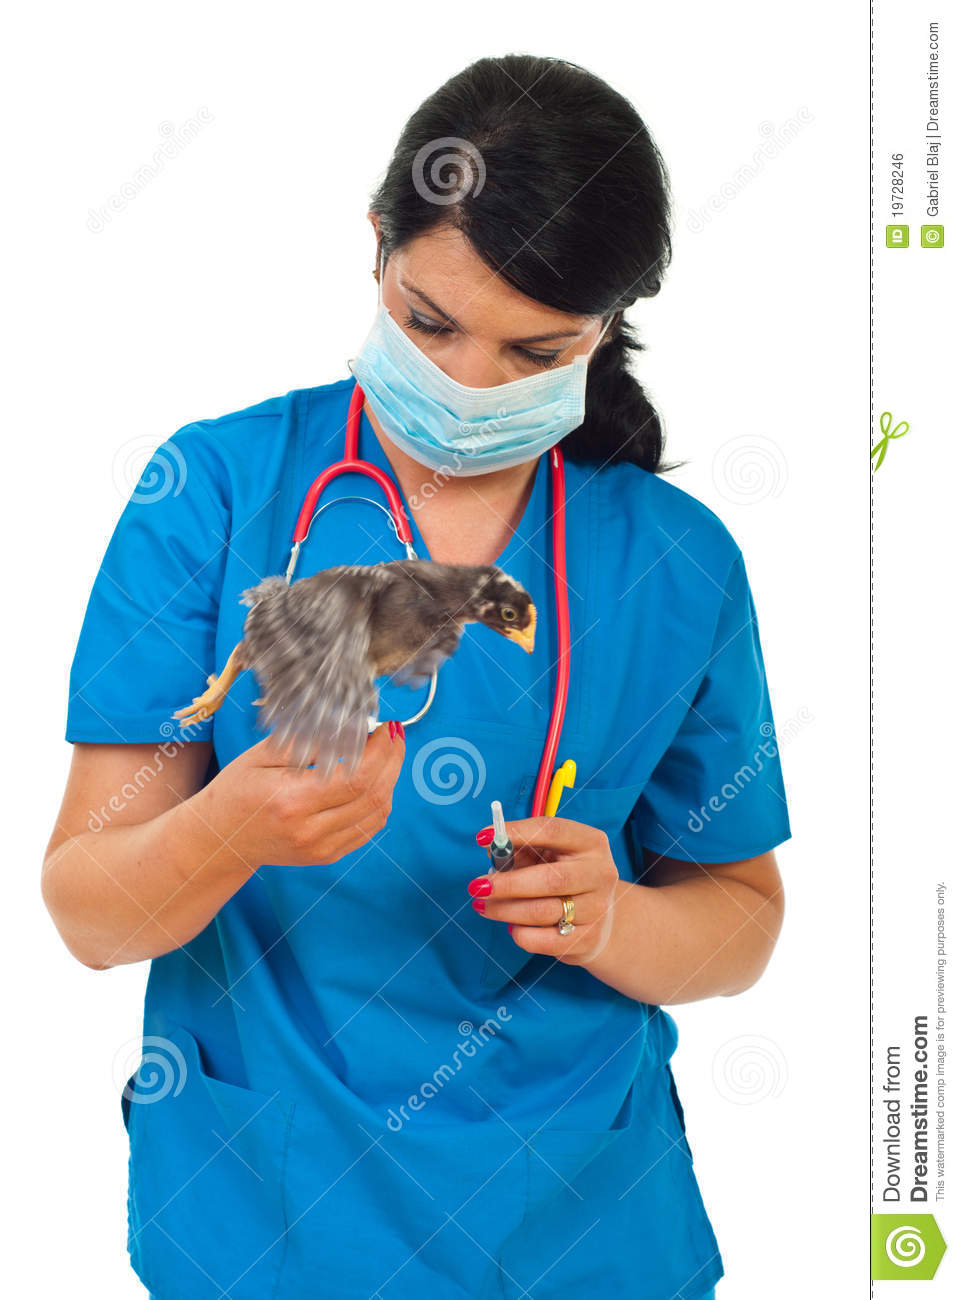mask: (354, 315, 592, 483)
